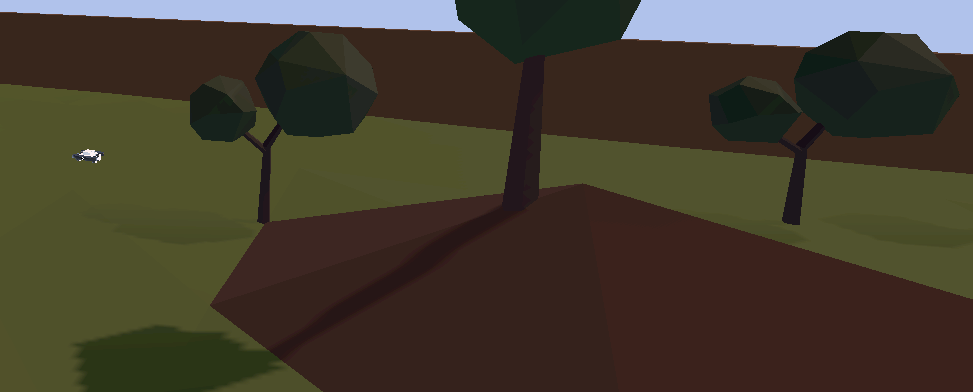tree: (708, 31, 961, 227), (188, 27, 380, 221), (447, 2, 639, 179)
